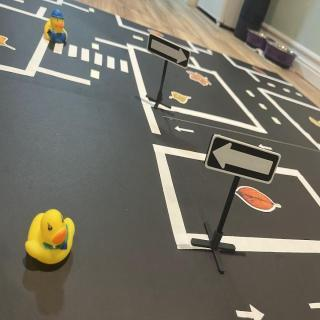duck_regular: (21, 210, 75, 273)
duck_specialty: (42, 6, 70, 44)
road_crosswalk: (50, 38, 132, 78)
road_oneway: (231, 299, 273, 320), (174, 123, 196, 140), (257, 141, 276, 153)
sign_oneway_left: (204, 133, 283, 185)
sign_oneway_right: (148, 33, 196, 73)
